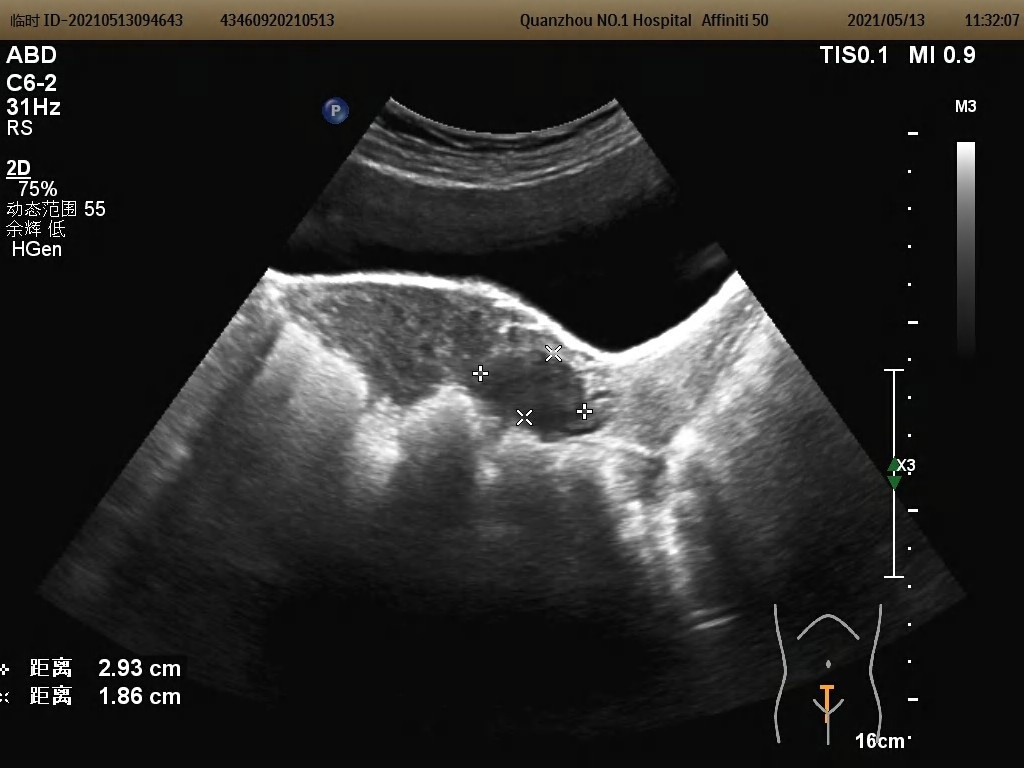肌瘤: (486, 357, 582, 430)
